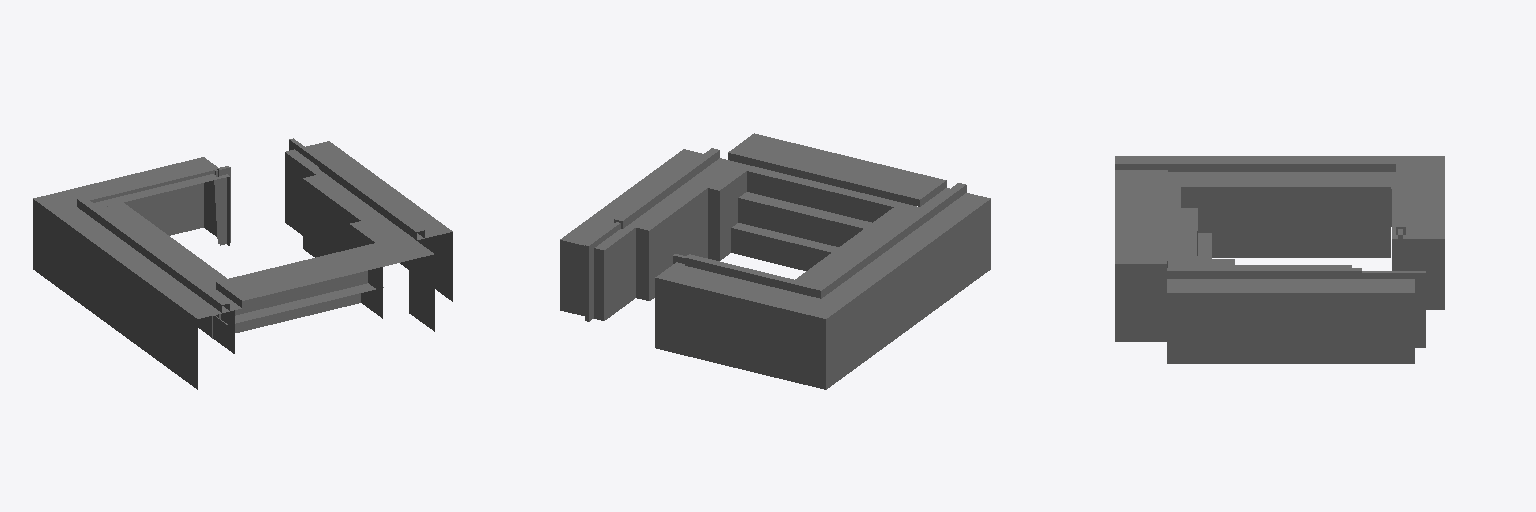
The model's file is MCML.obj.
3 renders of one model, left to right at view 1: azimuth 30°, elevation 25°; view 2: azimuth 150°, elevation 25°; view 3: azimuth 270°, elevation 25°, orthographic.
Visible parts, largest first — view 1: MCML_6_Mesh.001; view 2: MCML_6_Mesh.001; view 3: MCML_6_Mesh.001.
Boxes of the visible parts, x1,y1,x2,y2 form: MCML_6_Mesh.001: [33, 138, 452, 389]; MCML_6_Mesh.001: [560, 133, 990, 389]; MCML_6_Mesh.001: [1115, 156, 1444, 363].
Size of the model in its own units: 0.0473 by 0.0127 by 0.0481.